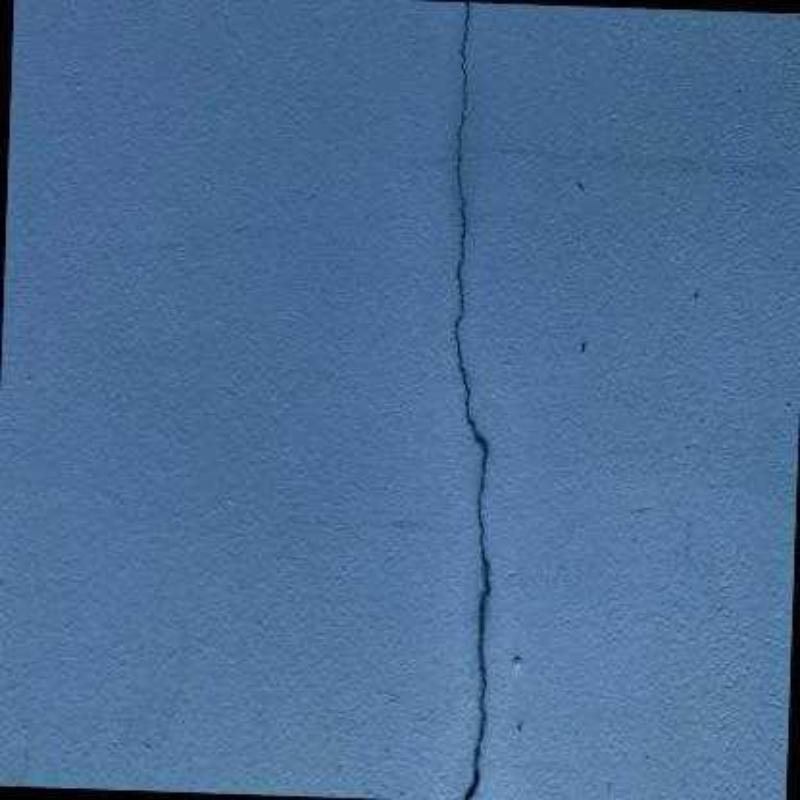crack: (453, 2, 489, 799)
